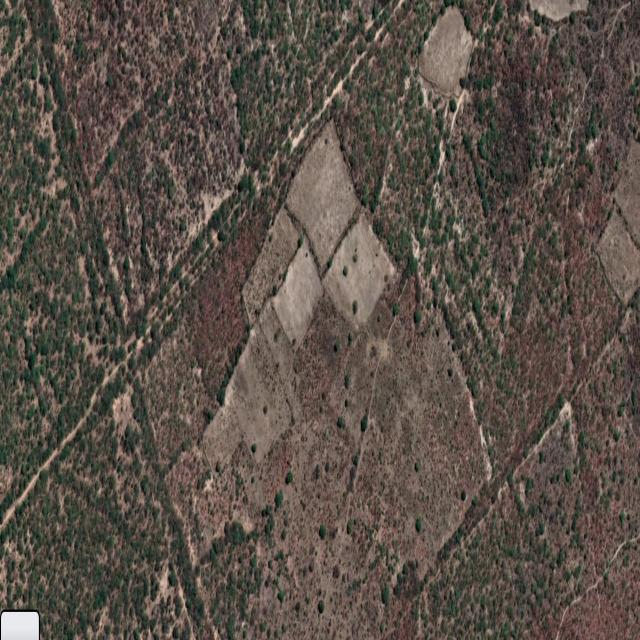boundaries: (2, 376, 105, 543), (515, 388, 569, 478), (322, 184, 371, 283), (412, 150, 448, 263)
